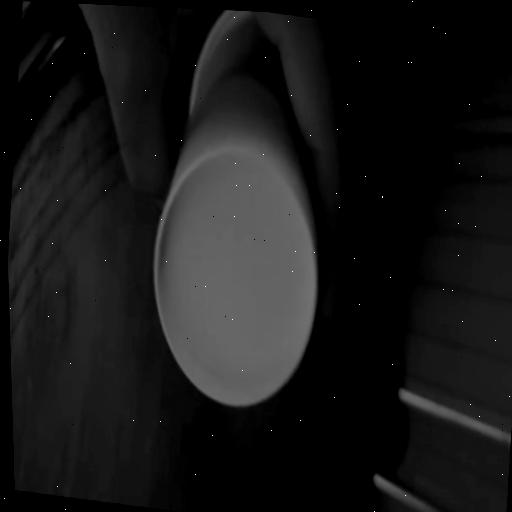Ly_giay: (154, 10, 317, 405)
